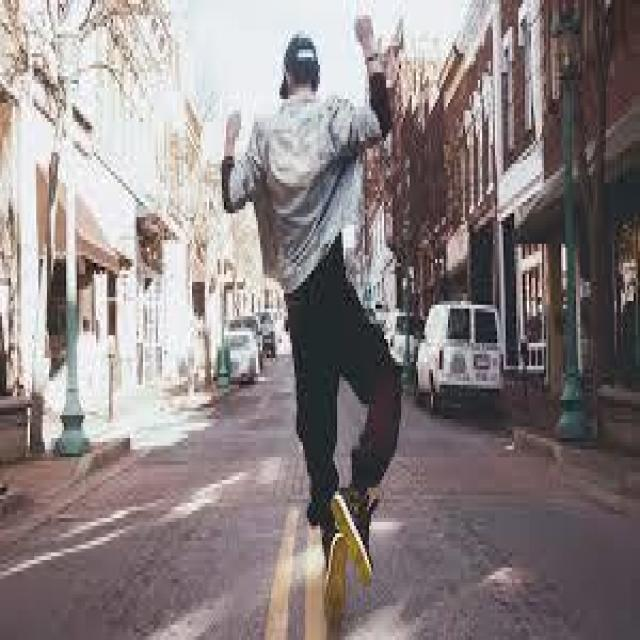person: (171, 0, 420, 602)
